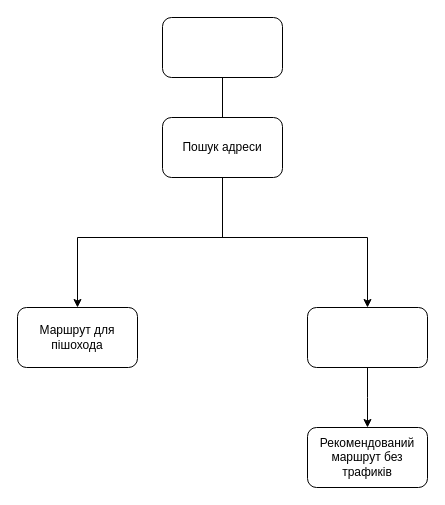
Image size: 445x505. Some labels were removed from this diagram. The centre of each missing label's shape, as x and y in pixels:
"Користувач" goes at pixel 222 47.
"Маршрут для авто" goes at pixel 367 337.
